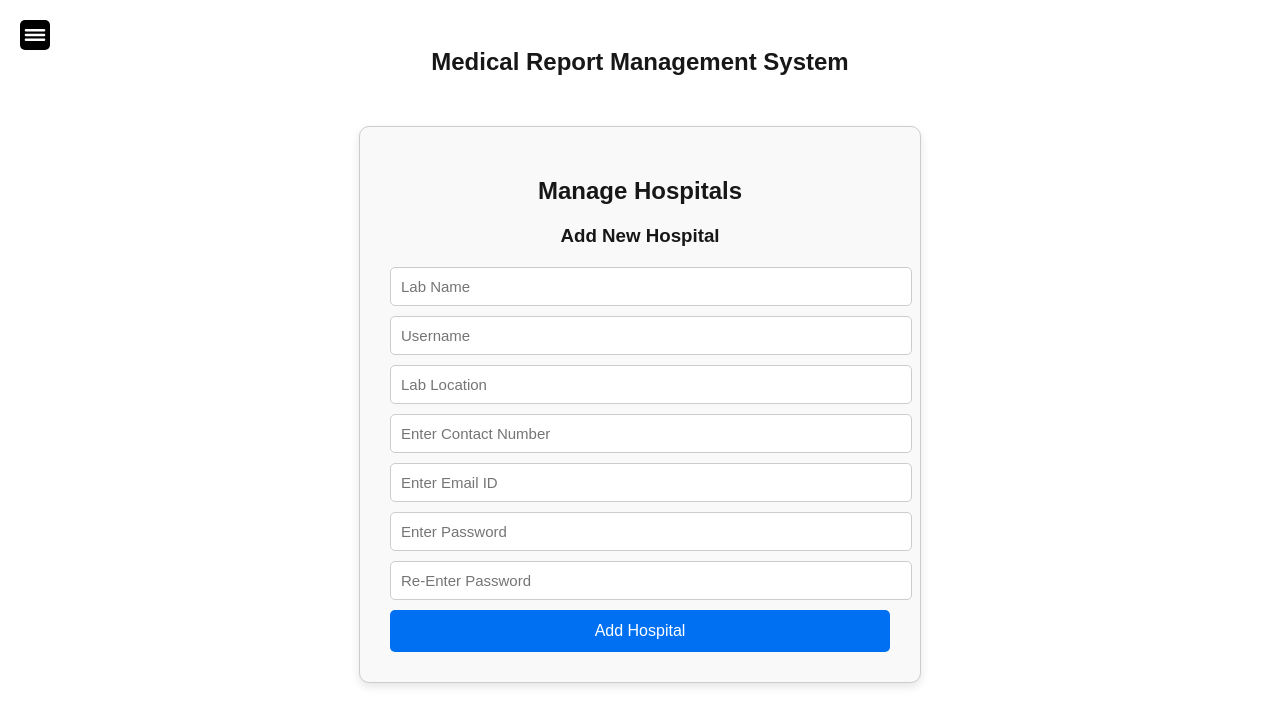
Test: ManageHospital Component › shows username already exists error
In the field with placeholder "Username": (651, 335) 390,316 -> 912,355, type "existingUser"
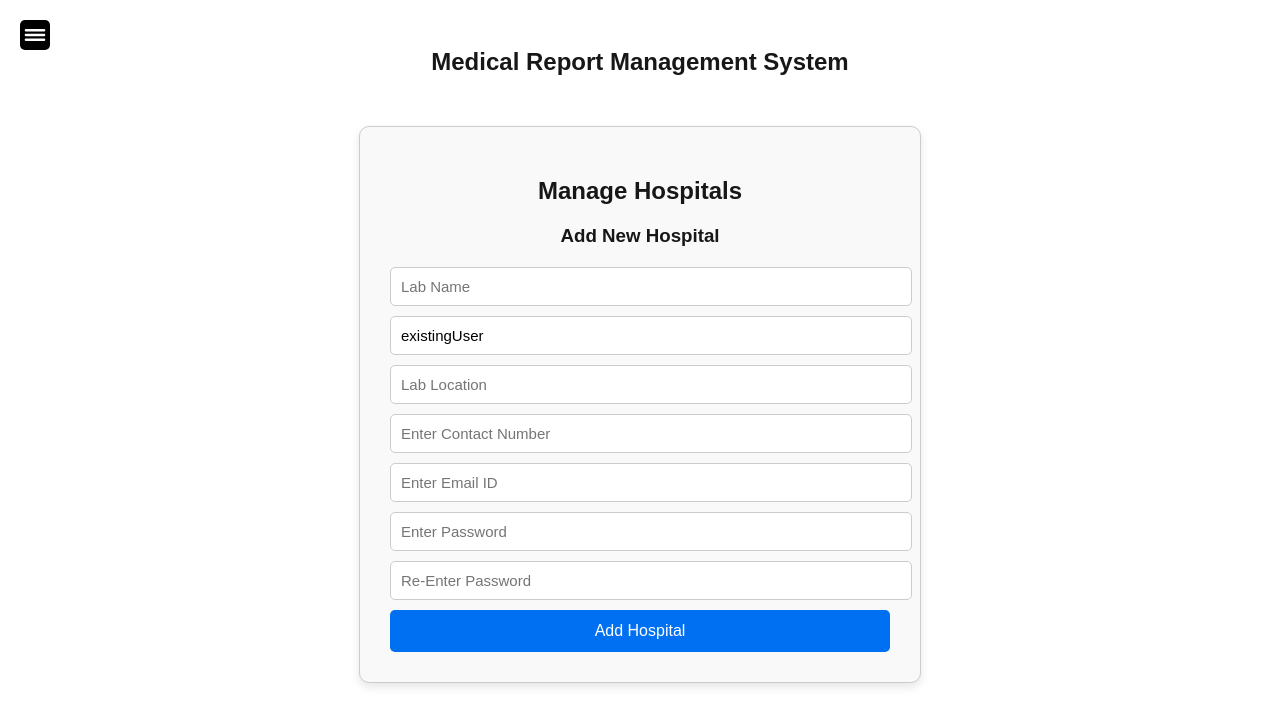
In the password field with placeholder "Enter Password": (651, 531) 390,512 -> 912,551, type "password123"
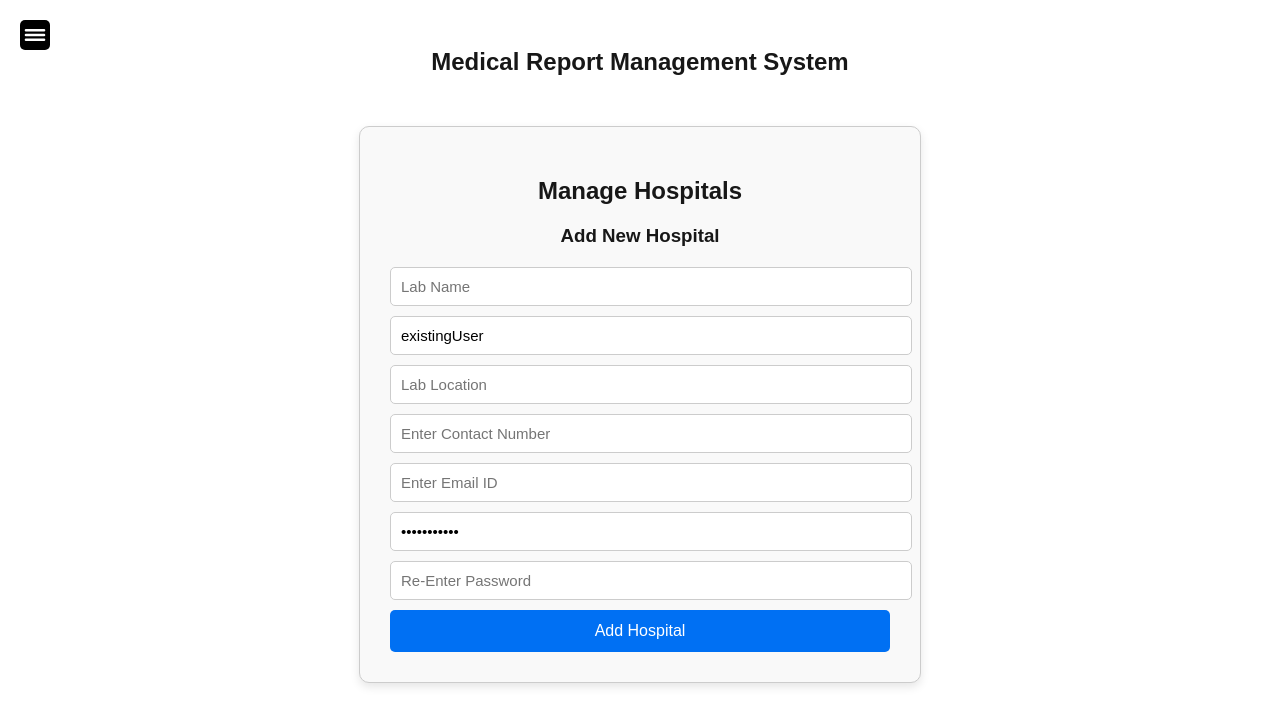
In the password field with placeholder "Re-Enter Password": (651, 580) 390,561 -> 912,600, type "password123"
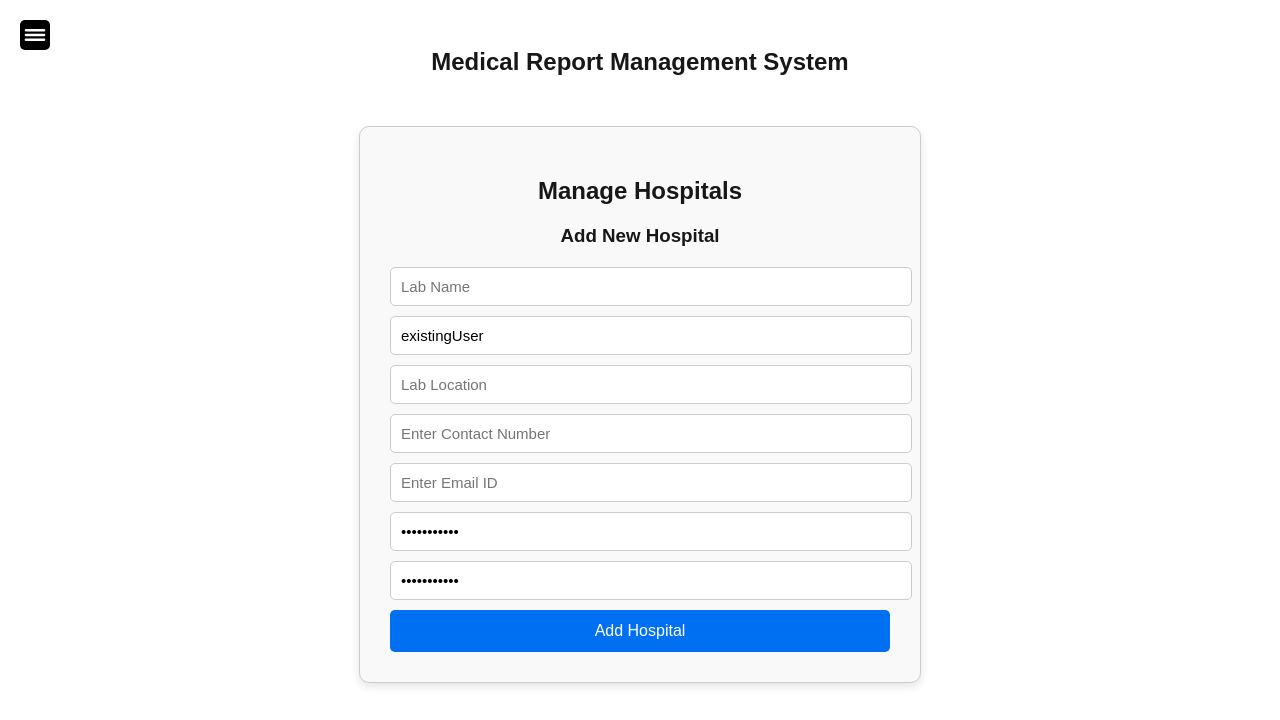
Click the button "Add Hospital": (640, 631) 390,610 -> 890,652
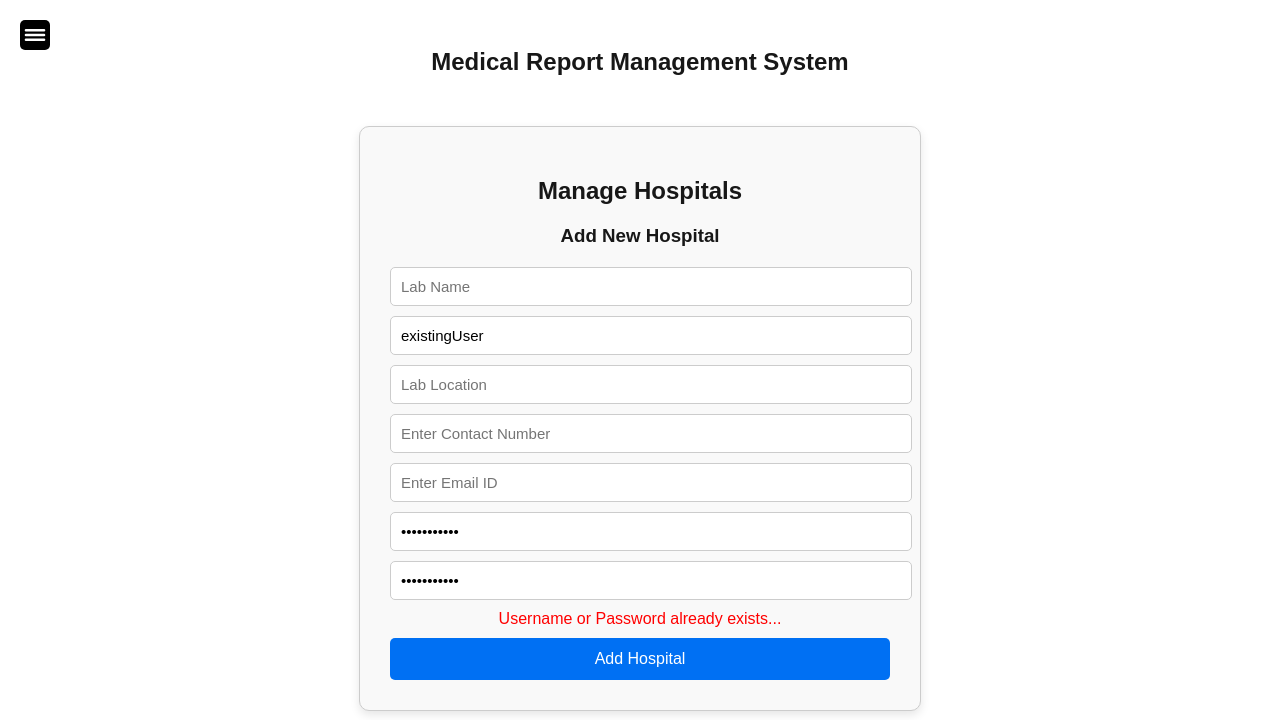
Result: the text "Username or Password already exists..." is shown at 499,610 -> 781,627
